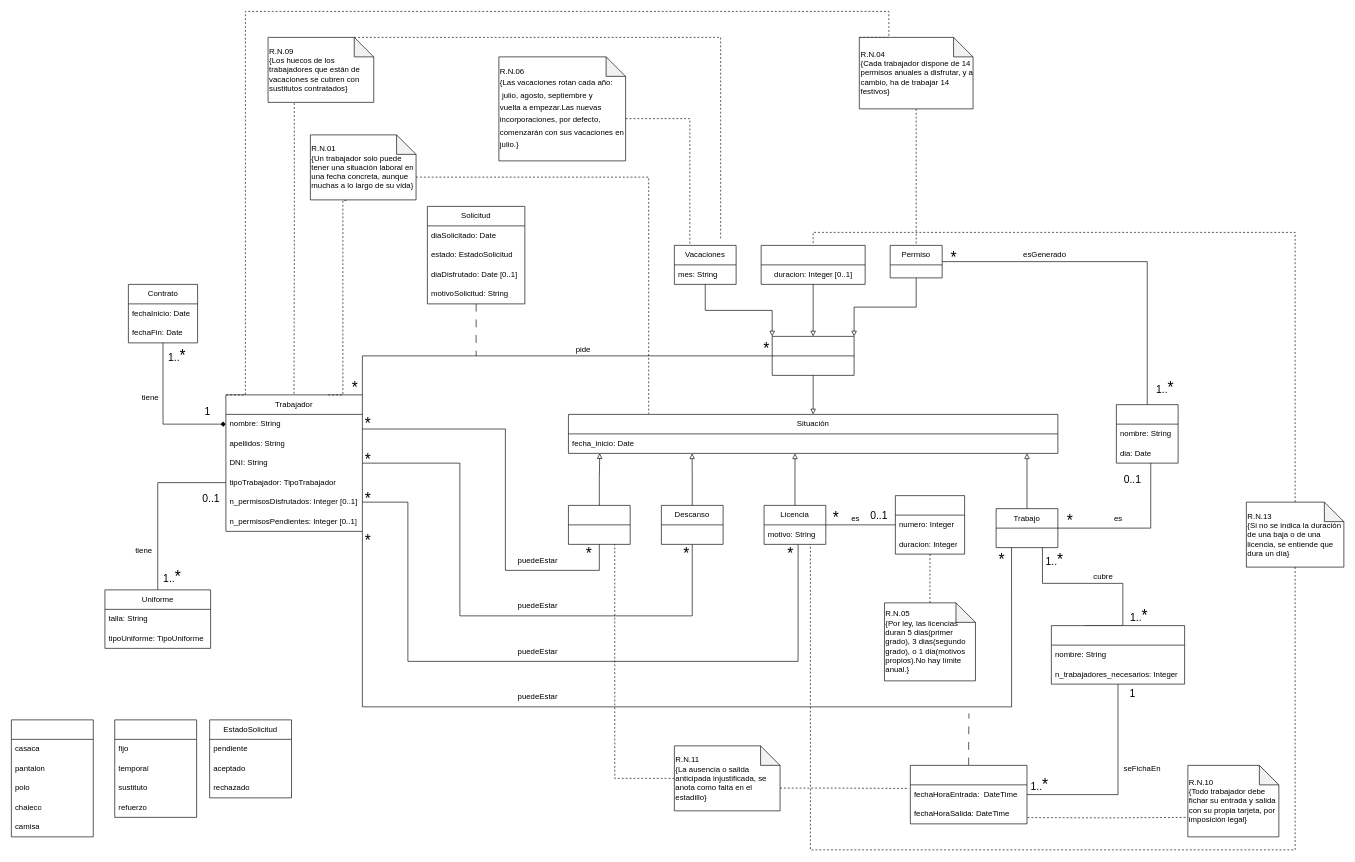
Some shapes in this 1355 by 862 pixel diagram are drawn without their labels. The box of each missing label's shape, as (x1, y1, x2, y2) in pixels:
Baja: (760, 245, 865, 284)
Falta: (568, 505, 630, 544)
Festivos: (1116, 404, 1178, 463)
Grado: (895, 495, 965, 554)
Solicitable: (772, 336, 854, 375)
Tarjeta: (910, 765, 1027, 824)
TipoTrabajador: (114, 719, 197, 817)
TipoUniforme: (11, 719, 93, 837)
Área: (1051, 625, 1185, 684)
